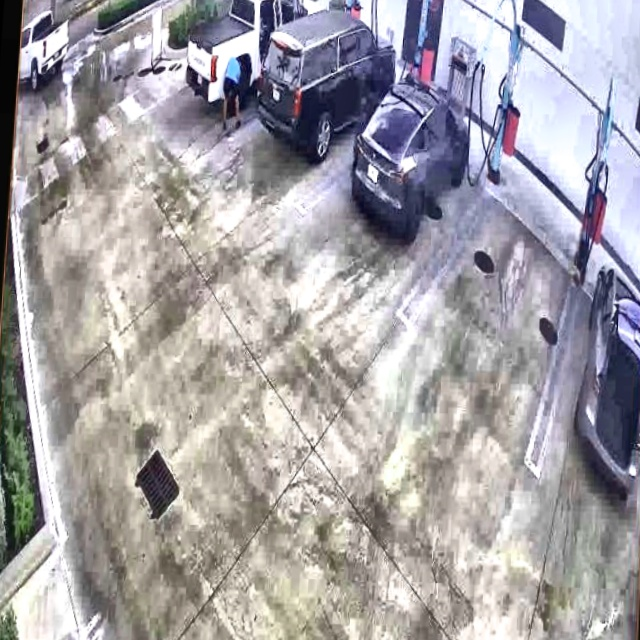Car: (352, 75, 474, 242)
